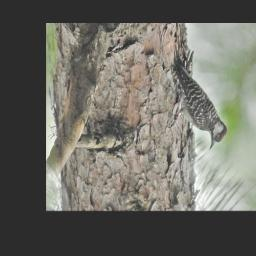Woodpecker: (170, 55, 227, 154)
